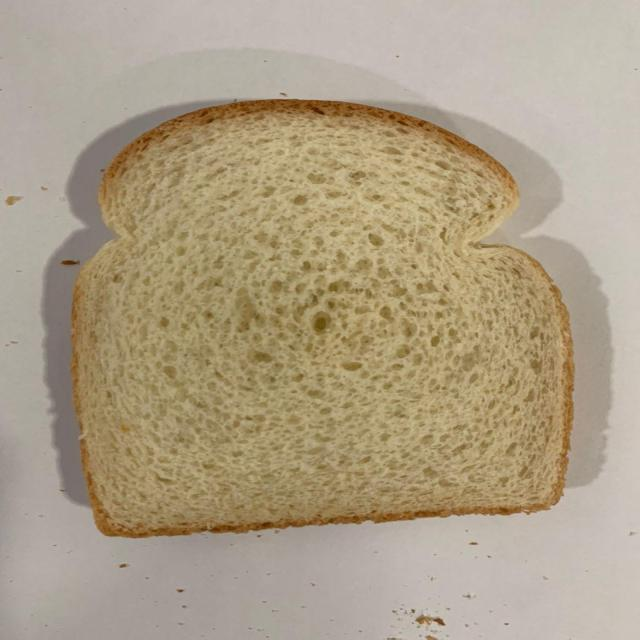pan: (68, 98, 574, 537)
